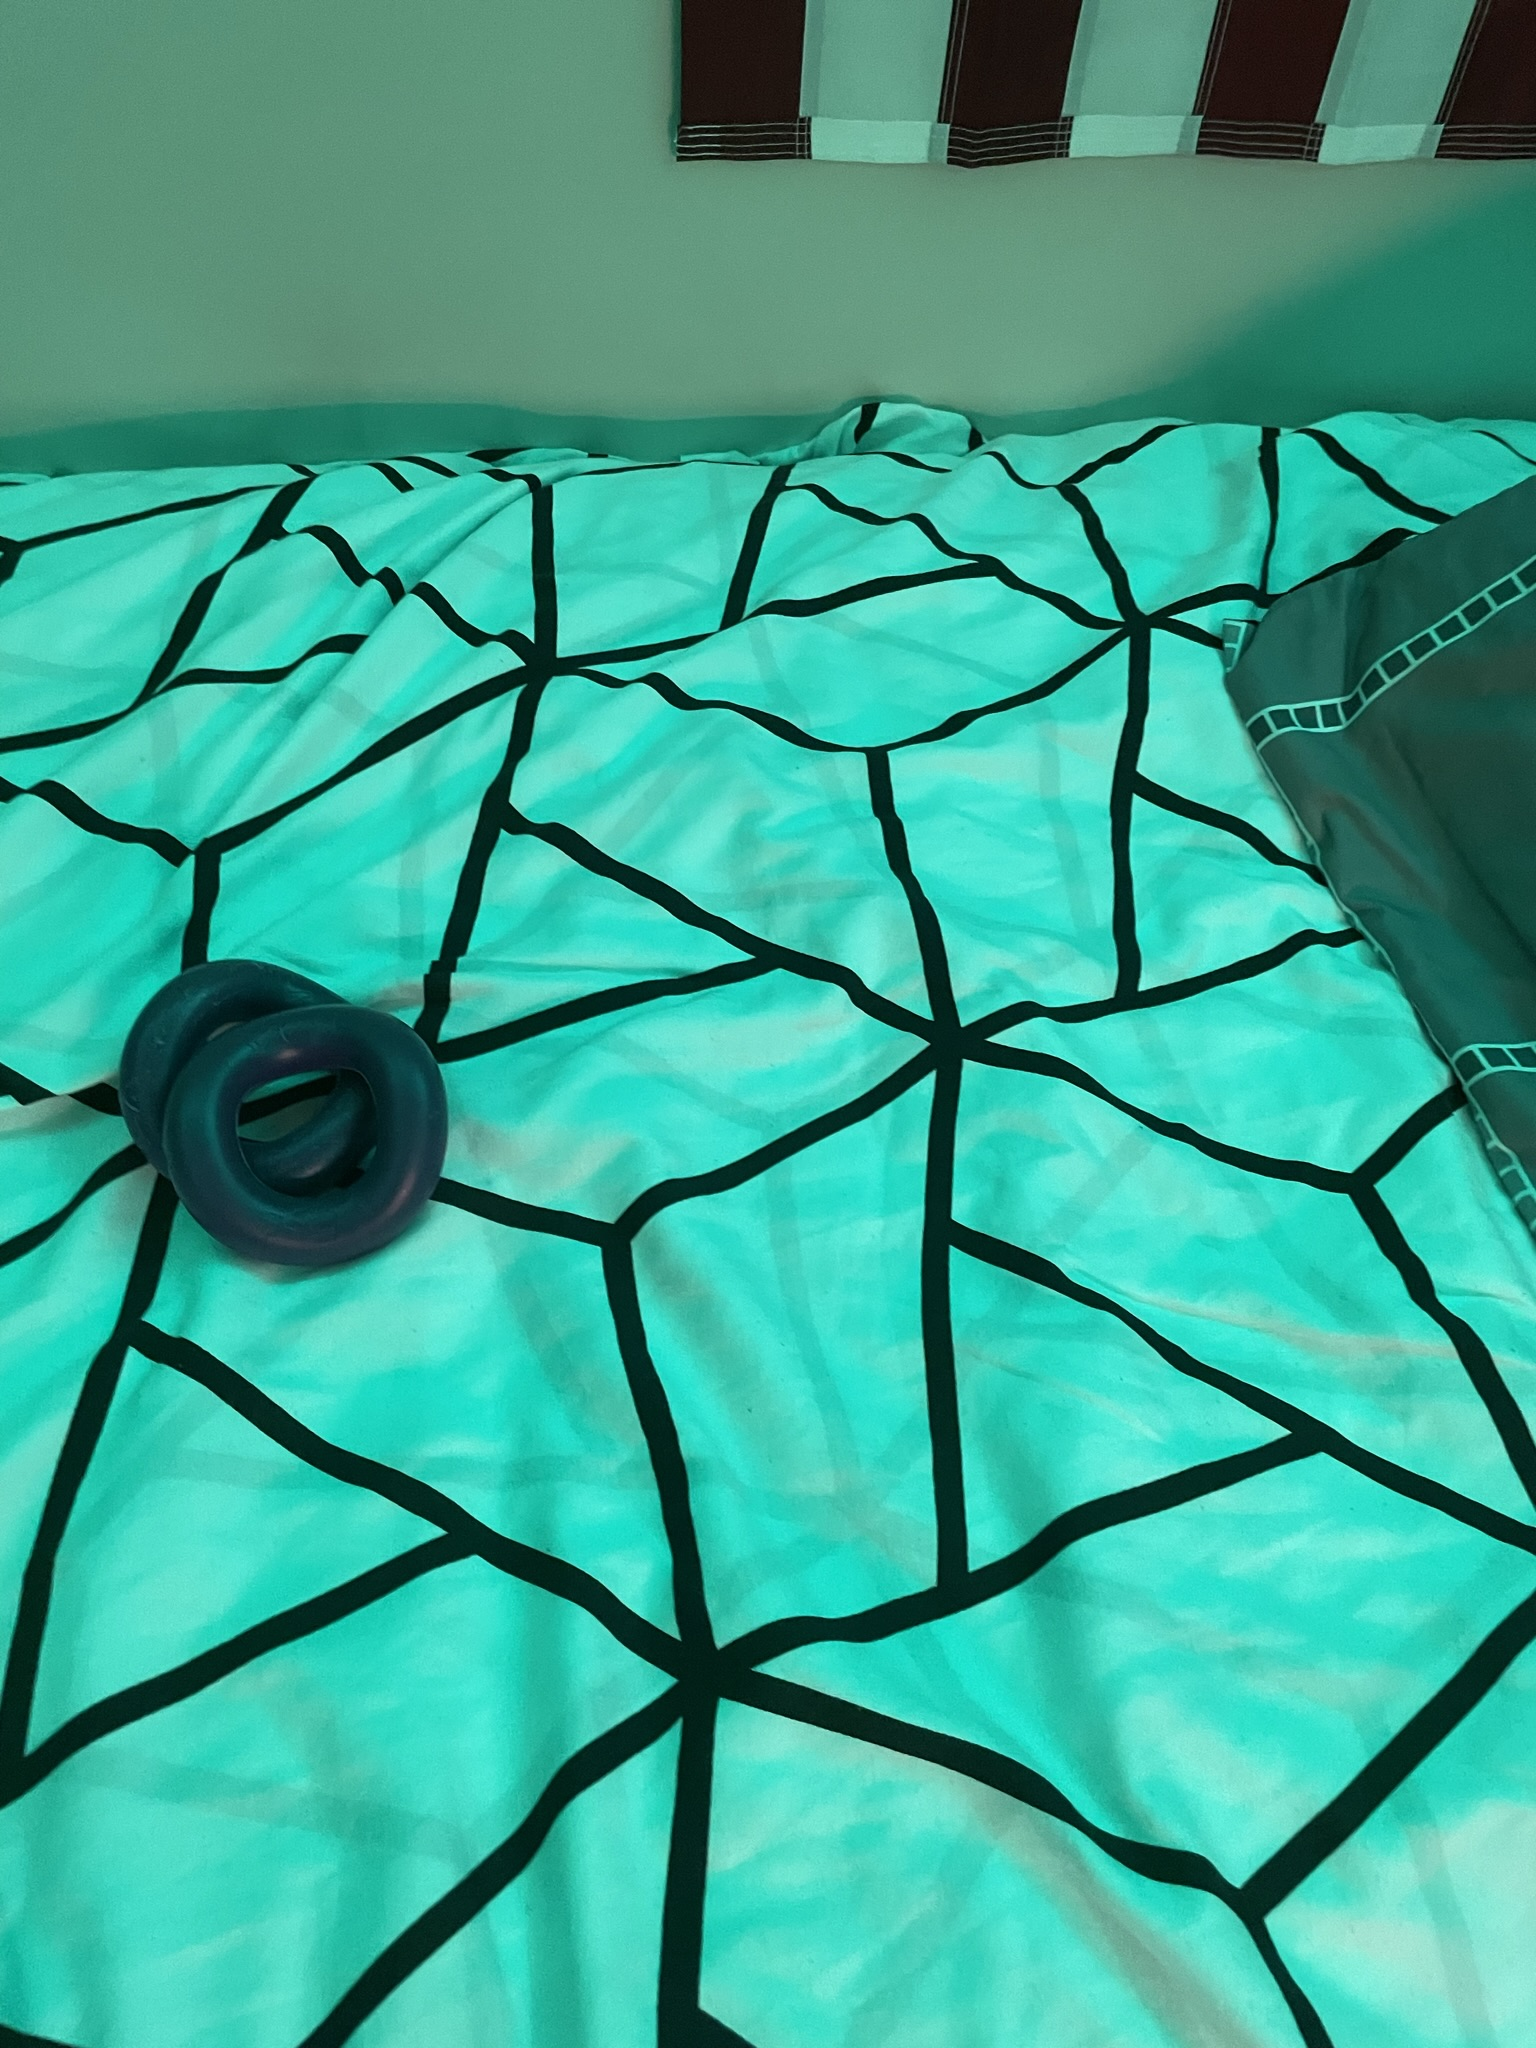ring: (160, 1001, 444, 1256), (103, 956, 382, 1182)
